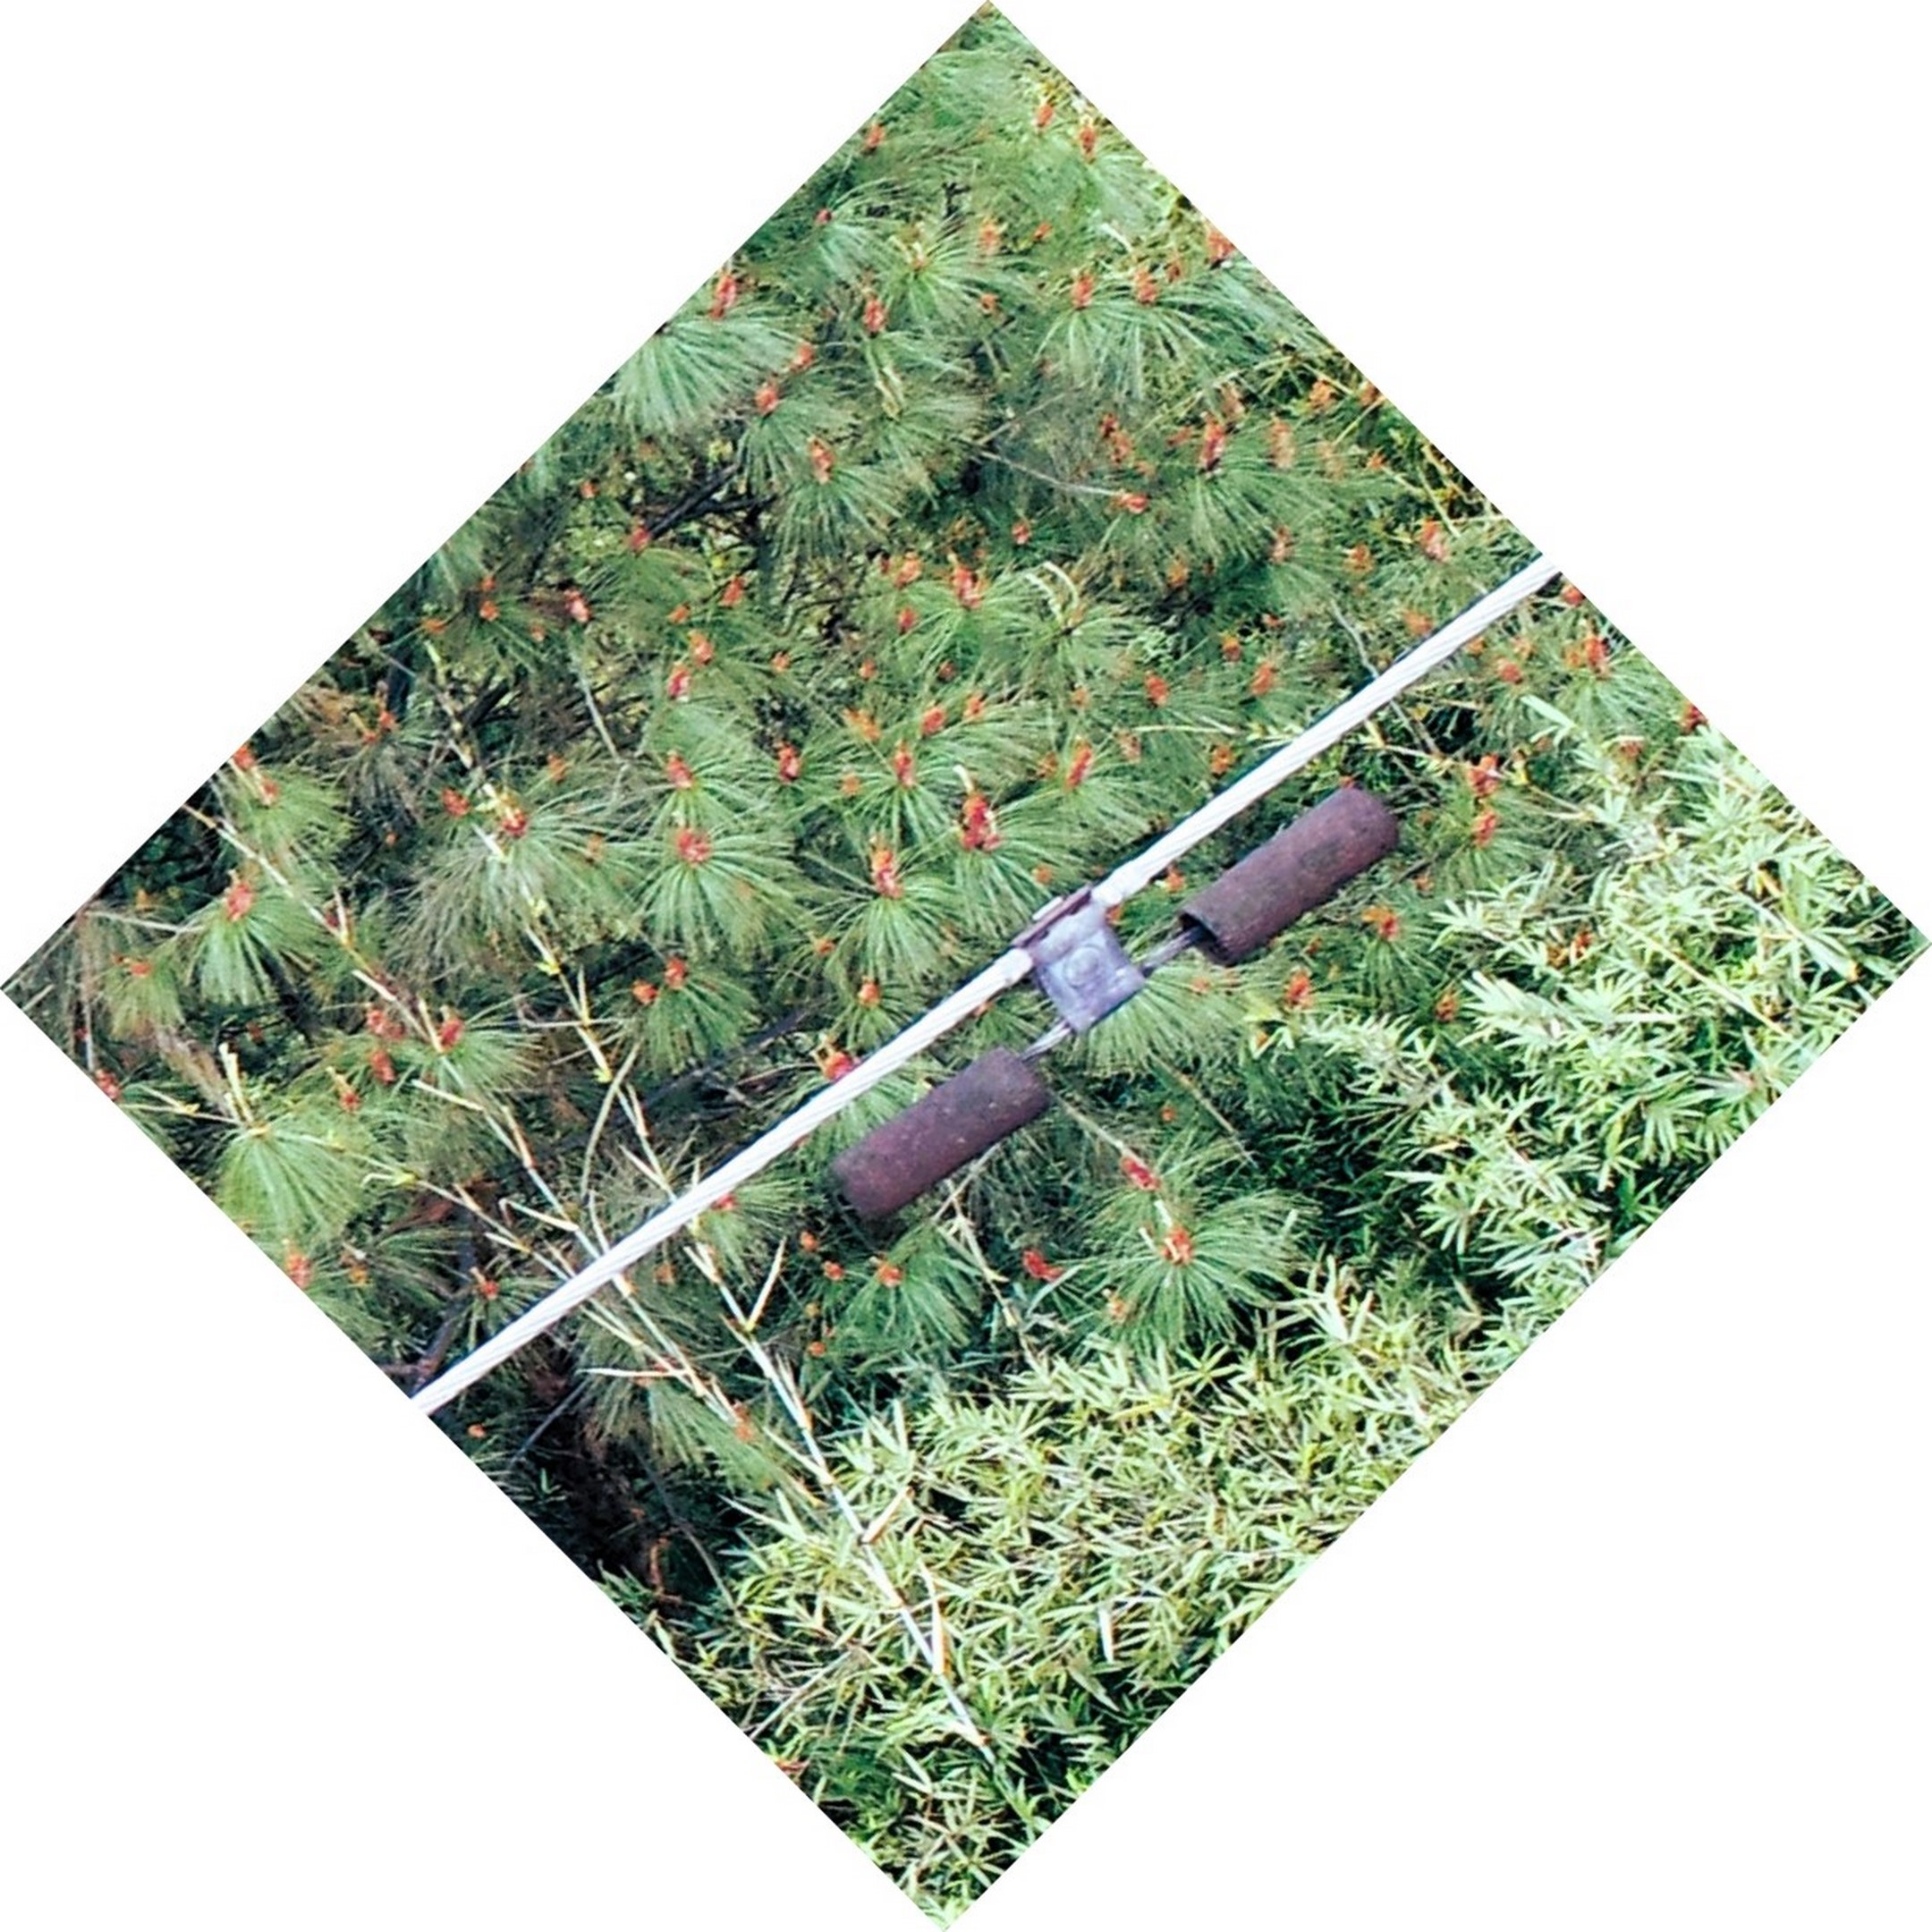Shockproof hammer: (793, 757, 1419, 1235)
